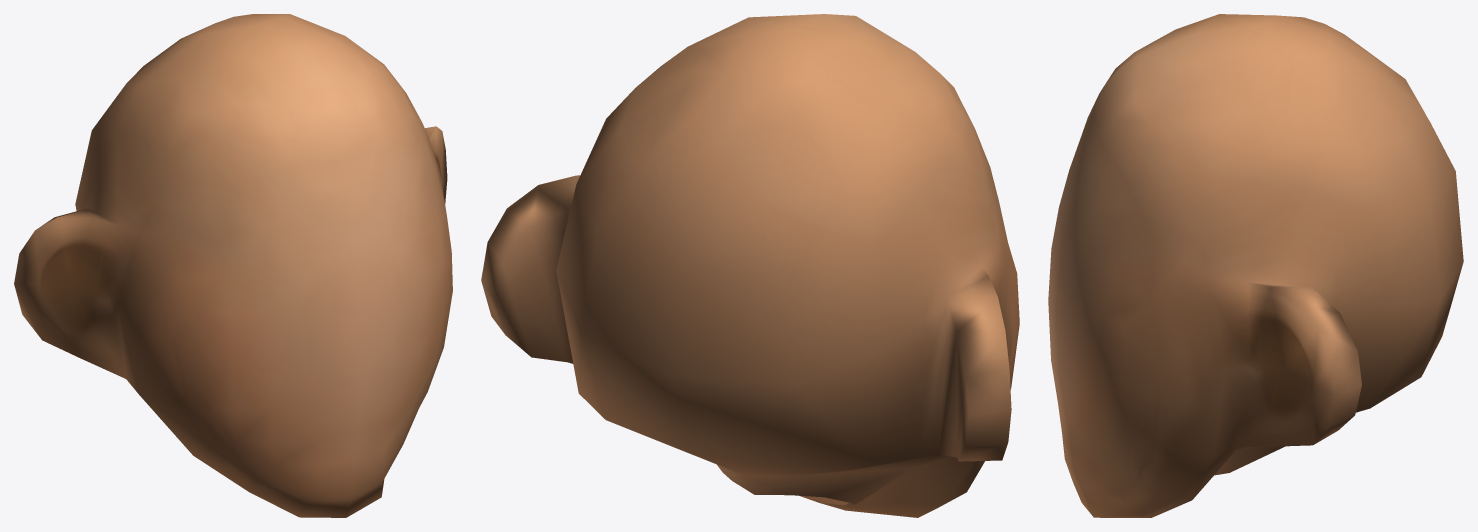
Rendered from TPFemaleC(FACELESS head).fbx.
3 views of the same model, side by side, from view 1: azimuth 30°, elevation 25°; view 2: azimuth 150°, elevation 25°; view 3: azimuth 270°, elevation 25° (orthographic). The views are drawn at different scales.
Parts seen in each view (by area): view 1: HEAD; view 2: HEAD; view 3: HEAD.
Boxes of the visible parts, box(x1,y1,x2,y2) form: HEAD: box(14, 14, 452, 517); HEAD: box(481, 14, 1019, 517); HEAD: box(1048, 14, 1463, 517).
Size of the model in its own units: 26.36 by 20.7 by 27.45.
